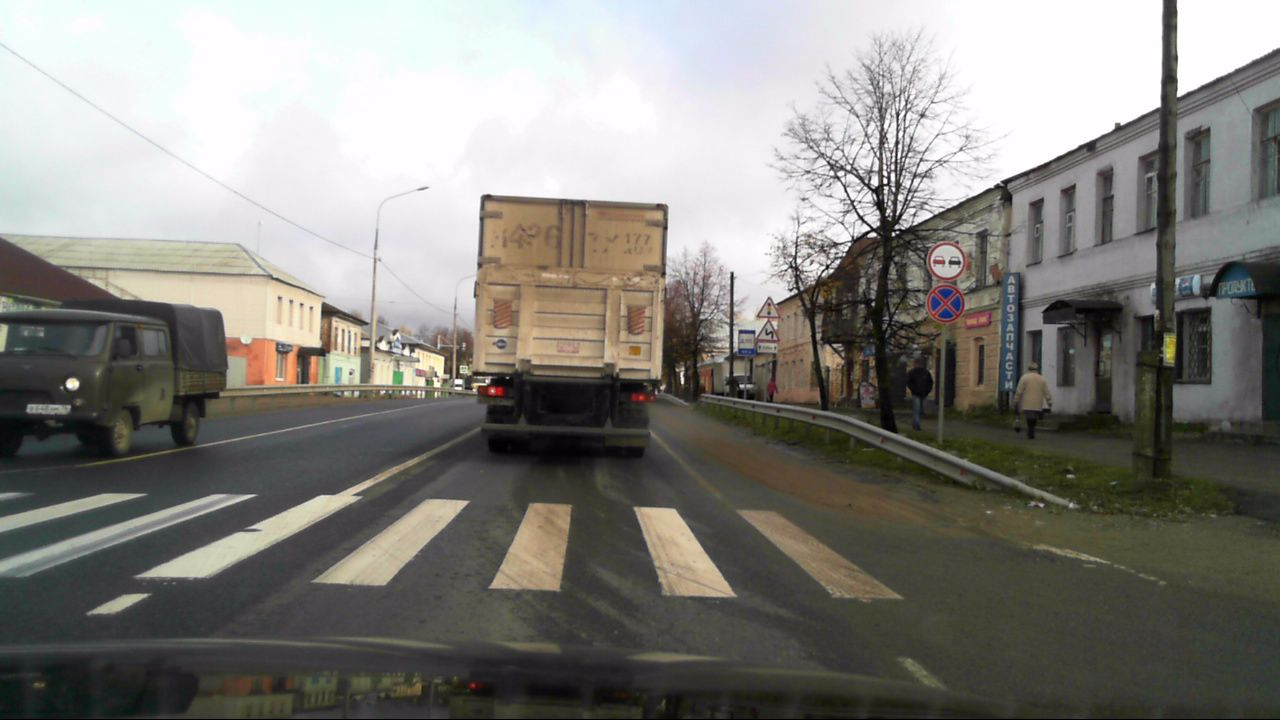No Parking: (927, 285, 963, 323)
